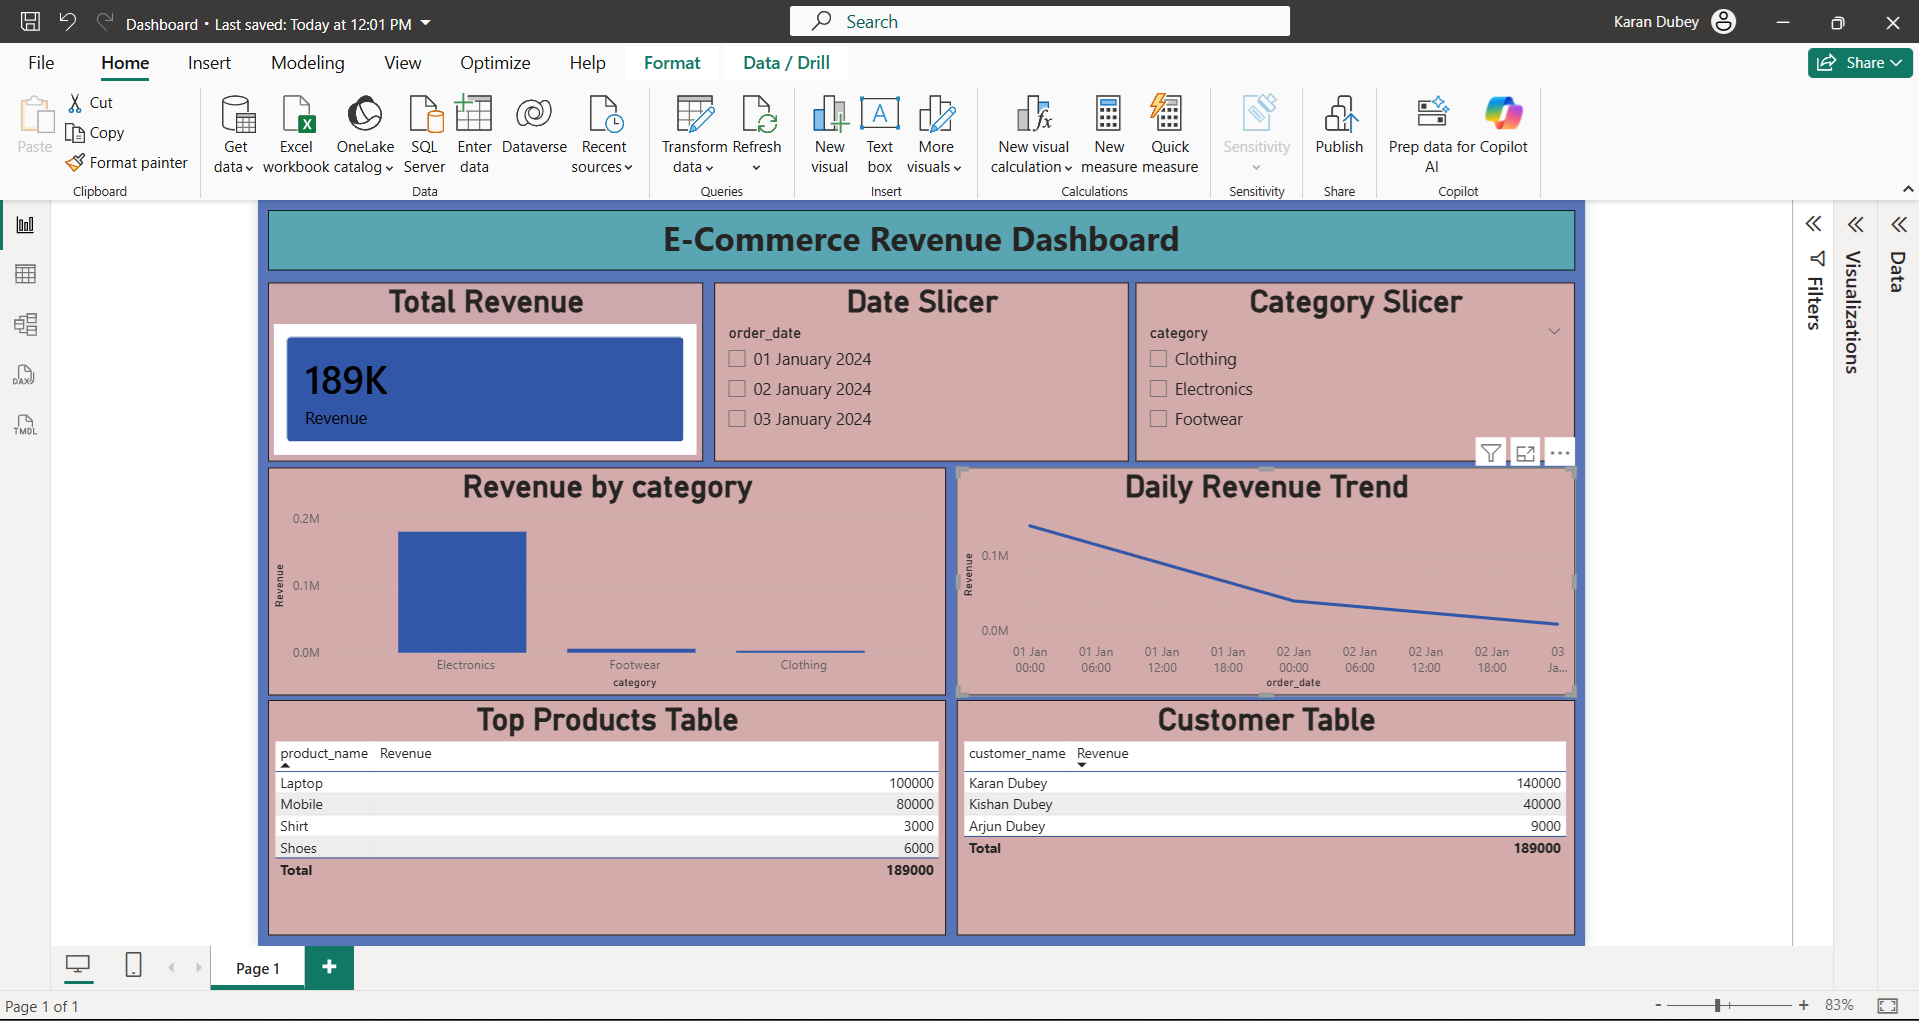

The dashboard page shown, as its layout file describes it:
{"tool":"powerbi","page":{"name":"Page 1","canvas":[1280,720],"ordinal":0},"visuals":[{"type":"cardVisual","title":"Total Revenue","fields":{"Data":["public customers.Revenue"]},"box":[10,80,420,172.9],"z":0},{"type":"clusteredColumnChart","fields":{"Category":["public products.category"],"Y":["public customers.Revenue"]},"box":[10,258.6,654.3,220],"z":1000},{"type":"lineChart","title":"Daily Revenue Trend","fields":{"Y":["public customers.Revenue"],"Category":["public orders.order_date"]},"box":[674.3,258.6,597.1,220],"z":2000},{"type":"tableEx","title":" Top Products Table","fields":{"Values":["public products.product_name","public customers.Revenue"]},"box":[10,482.9,654.3,227.1],"z":3000},{"type":"slicer","title":"Category Slicer","fields":{"Values":["public products.category"]},"box":[847.1,80,424.3,172.9],"z":4000},{"type":"slicer","title":"Date Slicer","fields":{"Values":["public orders.order_date"]},"box":[440,80,400,172.9],"z":5000},{"type":"tableEx","title":"Customer Table","fields":{"Values":["public customers.customer_name","public customers.Revenue"]},"box":[674.3,482.9,597.1,227.1],"z":6000},{"type":"textbox","box":[10,10,1261.4,58.6],"z":7000}]}

Visuals, with their boxes on the page's 1280x720 design canvas (x1, y1, x2, y2). These are canvas units, not pixel positions in the 1919x1021 screenshot, which may show the page scaled, cropped or inside an application window:
"Total Revenue" cardVisual: pyautogui.locateOnScreen(10, 80, 430, 253)
clusteredColumnChart - public products.category x public customers.Revenue: pyautogui.locateOnScreen(10, 259, 664, 479)
"Daily Revenue Trend" lineChart: pyautogui.locateOnScreen(674, 259, 1271, 479)
" Top Products Table" tableEx: pyautogui.locateOnScreen(10, 483, 664, 710)
"Category Slicer" slicer: pyautogui.locateOnScreen(847, 80, 1271, 253)
"Date Slicer" slicer: pyautogui.locateOnScreen(440, 80, 840, 253)
"Customer Table" tableEx: pyautogui.locateOnScreen(674, 483, 1271, 710)
textbox: pyautogui.locateOnScreen(10, 10, 1271, 69)
